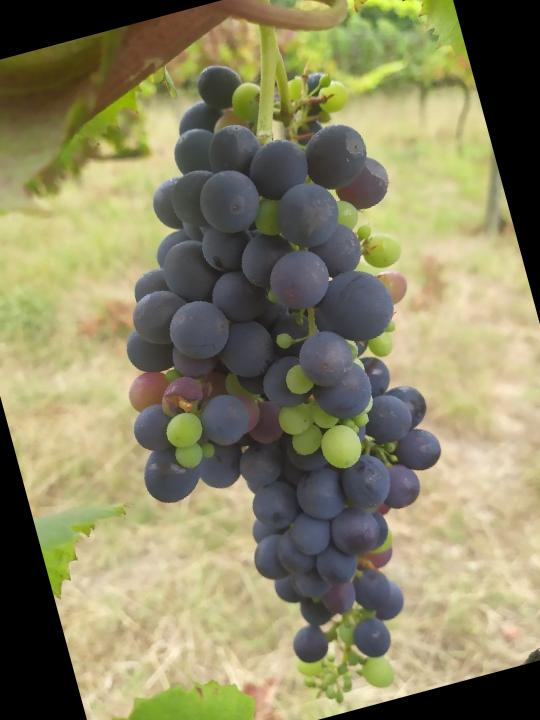grape: (43, 26, 518, 720)
